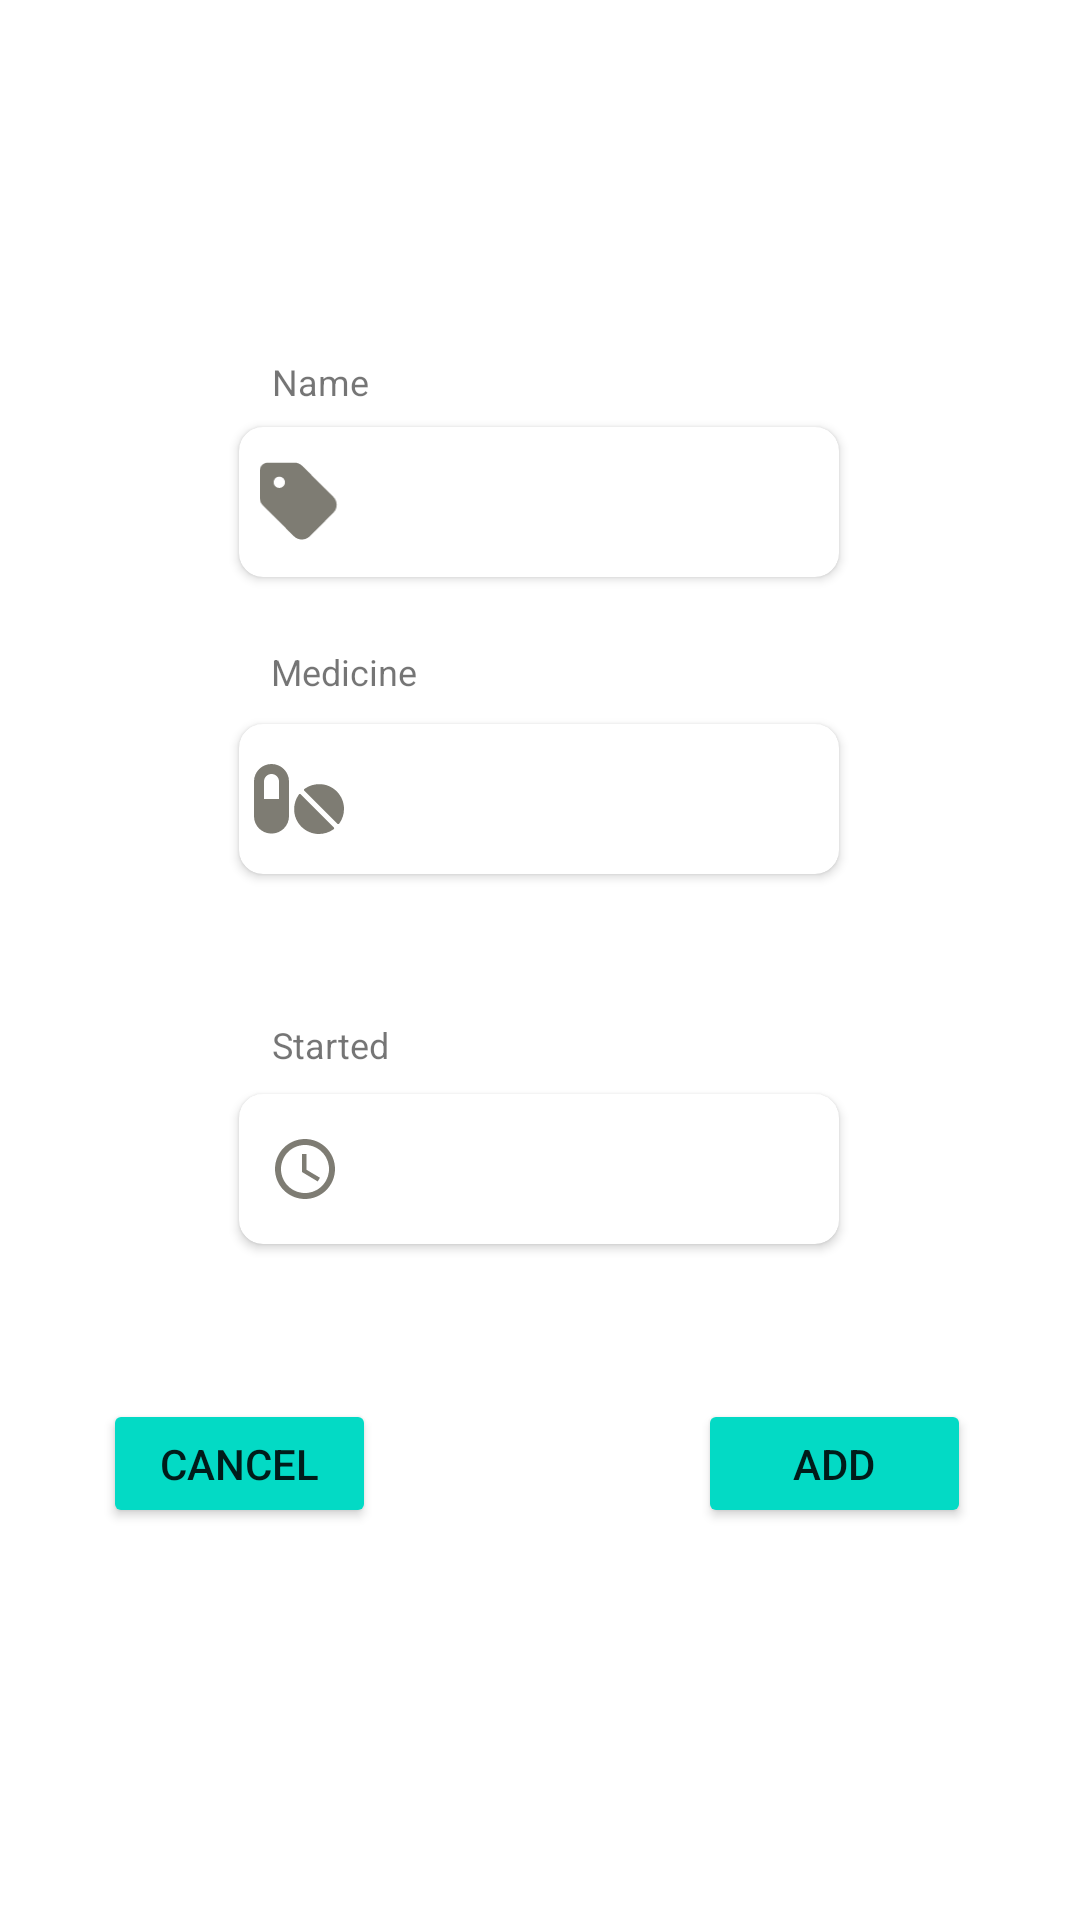

Screen size 1080x1920. Icon name, then its center in pixels as (x=x, y=y):
pills: (x=299, y=799)
tag: (x=298, y=501)
